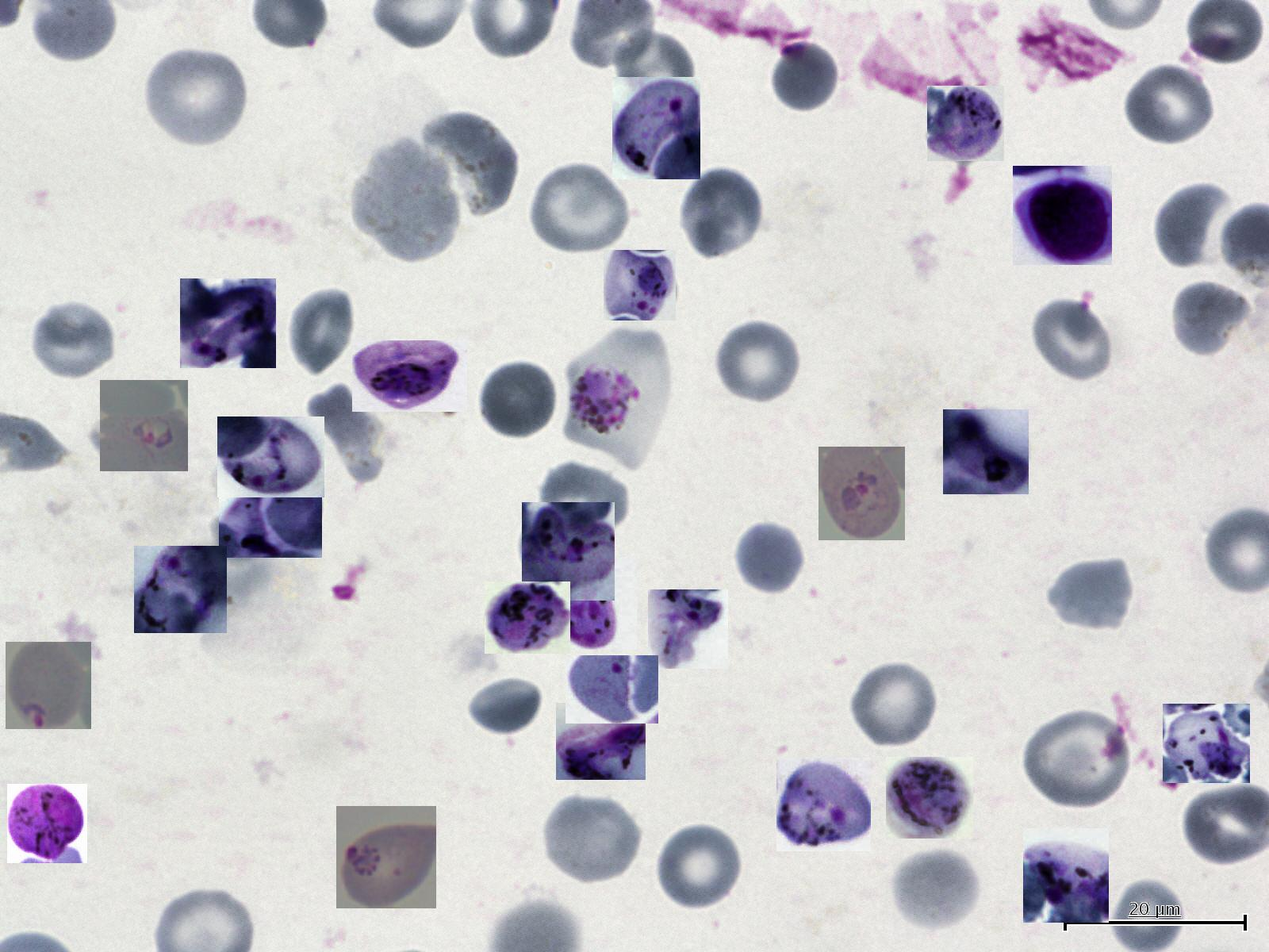Infected: (565, 327, 671, 468), (336, 806, 436, 908), (1013, 166, 1112, 265), (522, 502, 615, 601), (612, 77, 700, 179), (776, 758, 871, 851), (217, 416, 324, 497), (180, 278, 276, 368), (546, 557, 637, 650), (352, 340, 467, 412), (1023, 828, 1109, 923), (134, 546, 227, 633), (100, 380, 188, 471), (819, 447, 905, 540), (219, 486, 322, 558), (6, 642, 91, 729), (943, 409, 1029, 494), (886, 757, 973, 839), (556, 703, 646, 780), (1163, 704, 1250, 783), (565, 655, 658, 724), (648, 589, 728, 669), (7, 784, 87, 863), (485, 582, 570, 654), (927, 86, 1004, 162), (604, 250, 677, 321)
Uninfected: (350, 152, 463, 260), (1022, 707, 1133, 812), (144, 44, 249, 147), (414, 110, 516, 214), (528, 160, 631, 258), (542, 793, 642, 885), (678, 165, 765, 262), (849, 658, 938, 750), (654, 820, 742, 912), (889, 846, 981, 933), (1124, 60, 1214, 148), (608, 21, 696, 111), (302, 383, 387, 476), (714, 319, 802, 406), (1028, 297, 1114, 385), (534, 455, 631, 533), (1152, 182, 1236, 272), (29, 300, 117, 383), (1170, 278, 1252, 361), (1045, 557, 1135, 631), (478, 359, 558, 440), (287, 285, 358, 374), (730, 519, 806, 597), (767, 37, 843, 114), (463, 670, 544, 739)
